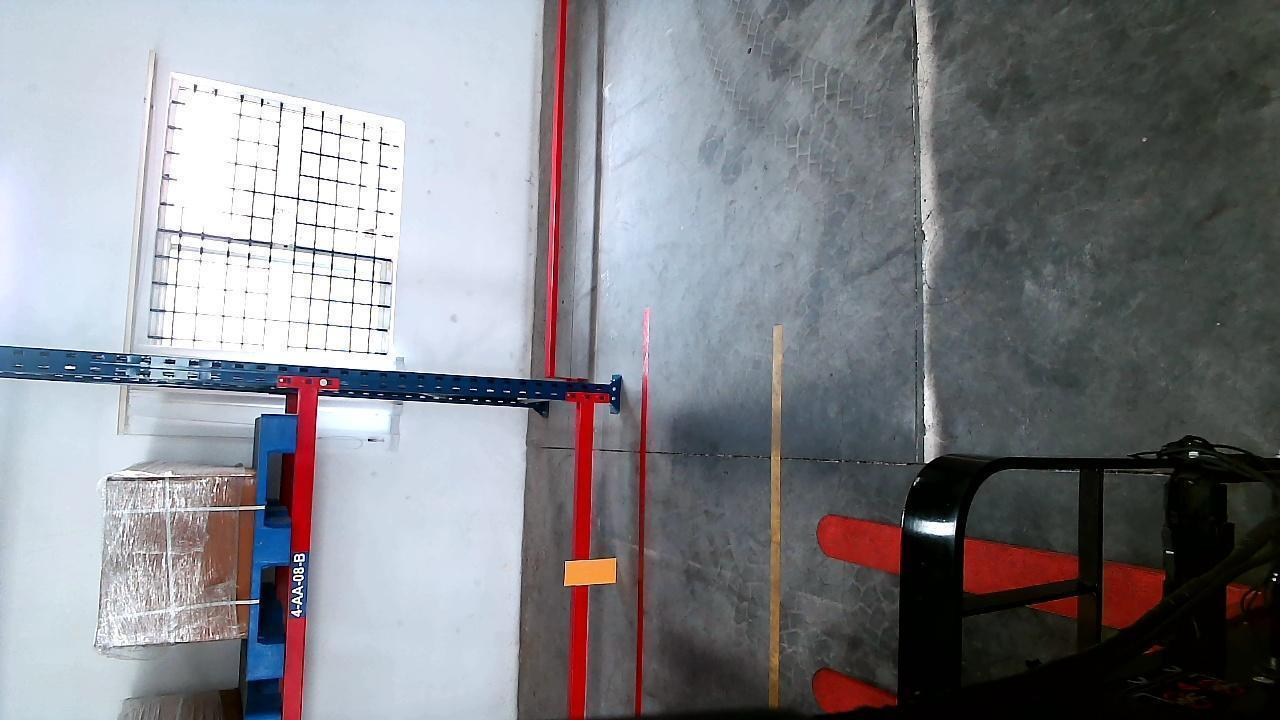red_line: (630, 307, 655, 716)
yellow_line: (764, 321, 784, 711)
